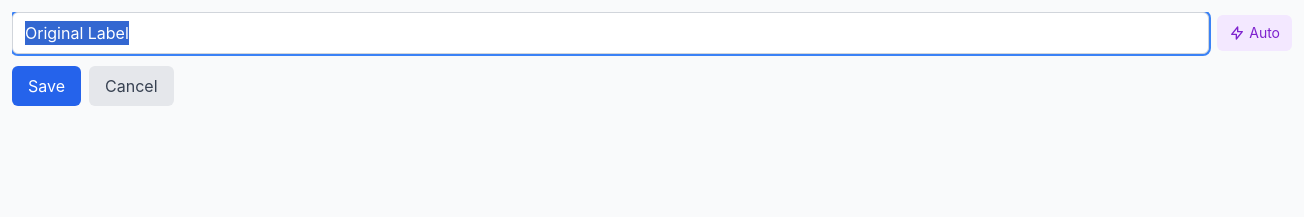
Test case: ThemeLabelEditor › Edit Mode › should apply suggestion when clicked
Replace the text in the field showing "Original Label" with "Duplicate Label" at (611, 33), box [12,12,1209,54]
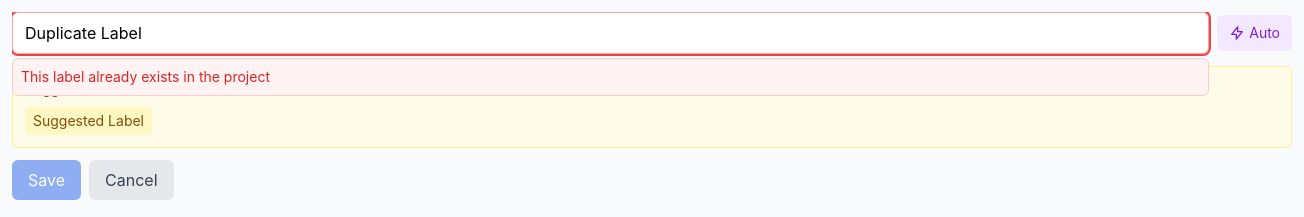
Result: the button "Suggested Label" is shown
Click the button "Suggested Label".
click(88, 121)  # box [25,107,152,135]
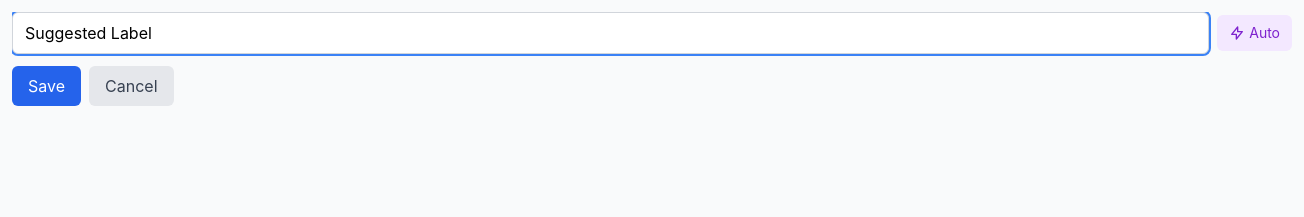
Result: the field showing "Original Label" holds "Suggested Label" at [12,12,1209,54]
